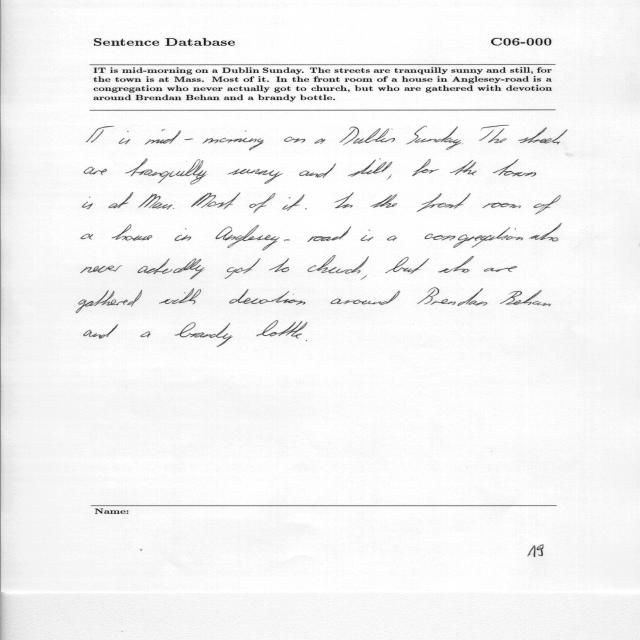word: (216, 225, 351, 250), (144, 130, 264, 151), (125, 159, 207, 185), (424, 227, 523, 248), (76, 290, 142, 313), (175, 322, 233, 347), (138, 259, 204, 280), (406, 126, 461, 150), (418, 288, 488, 306), (230, 289, 306, 305), (307, 255, 369, 274), (417, 193, 471, 212), (339, 127, 395, 145), (331, 291, 400, 305), (257, 321, 308, 339), (518, 128, 568, 145), (191, 193, 240, 210), (228, 169, 283, 184), (500, 290, 551, 306), (348, 159, 392, 177), (493, 159, 536, 177), (225, 258, 261, 279), (386, 257, 429, 274), (112, 224, 153, 241), (159, 288, 201, 304), (438, 256, 474, 273), (529, 224, 562, 242), (138, 194, 173, 210), (533, 195, 561, 215), (299, 163, 336, 178), (479, 126, 509, 144), (250, 193, 276, 213), (84, 324, 118, 339), (86, 126, 114, 143), (412, 159, 439, 176), (450, 160, 477, 175), (109, 193, 134, 209), (282, 194, 305, 211), (370, 194, 397, 208), (81, 265, 122, 273), (334, 193, 354, 209), (269, 258, 289, 272), (483, 203, 521, 209), (175, 228, 192, 241), (484, 266, 517, 272), (84, 167, 107, 175), (119, 131, 131, 144), (83, 197, 94, 209), (361, 230, 373, 241), (285, 137, 306, 143), (81, 234, 93, 240), (315, 138, 326, 144), (141, 332, 151, 338), (387, 236, 397, 241), (361, 275, 367, 280), (387, 175, 392, 180), (305, 208, 307, 210), (173, 208, 174, 209), (306, 340, 307, 341), (462, 144, 463, 144)
